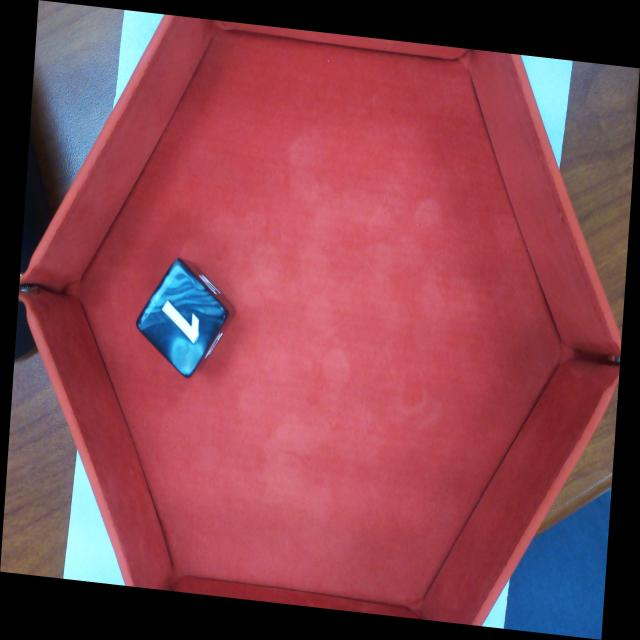dice: (138, 261, 229, 372)
